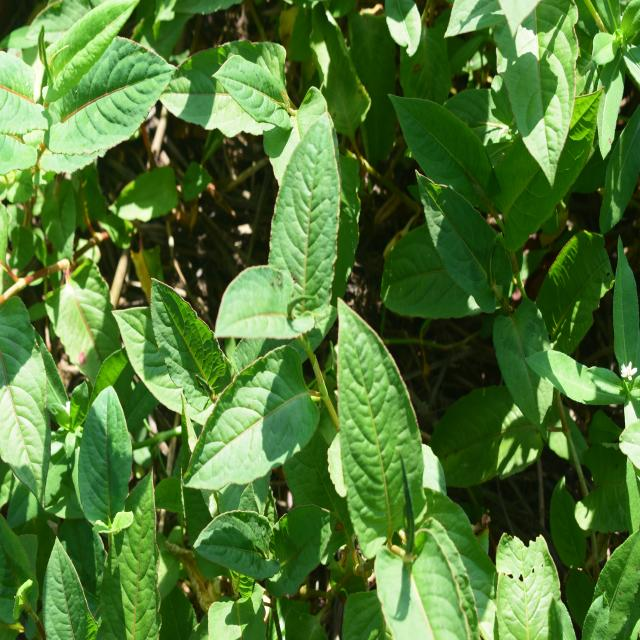Chinese_knotweed: (200, 118, 474, 619)
